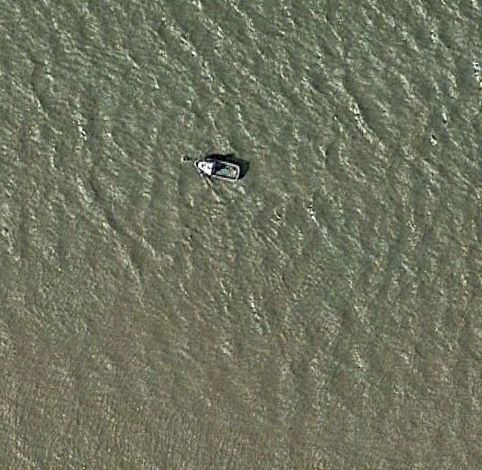boat: (192, 155, 247, 187)
